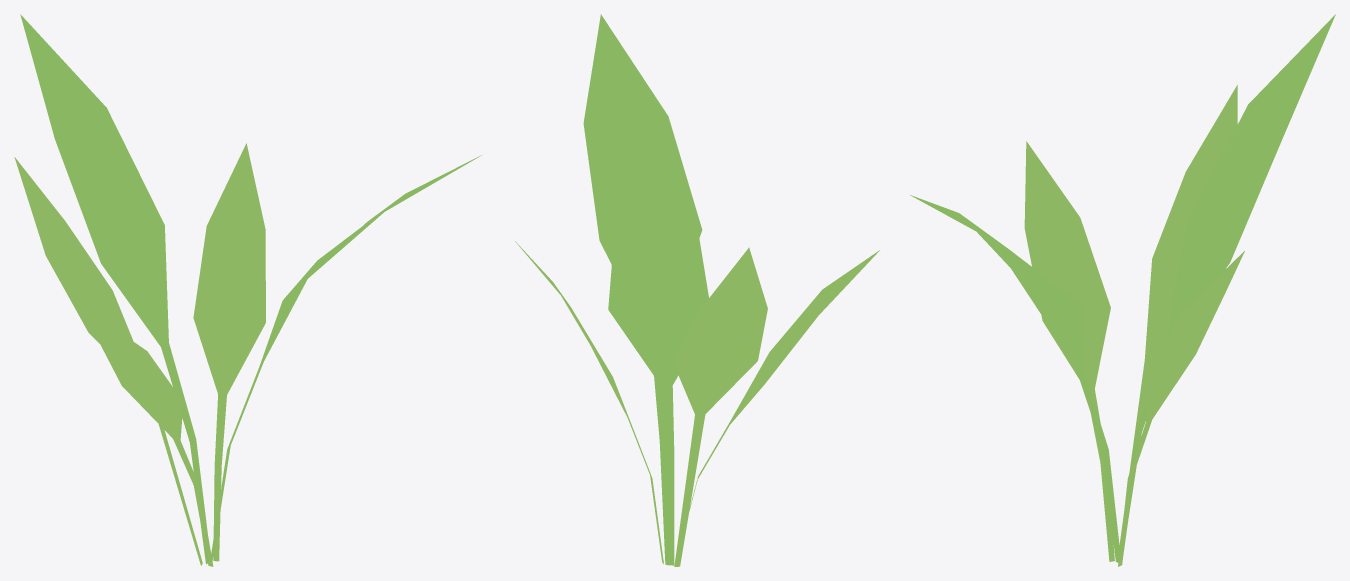
Rendered from Plant_g_TwoS_04.fbx.
3 views of the same model, side by side, from view 1: azimuth 30°, elevation 25°; view 2: azimuth 150°, elevation 25°; view 3: azimuth 270°, elevation 25° (orthographic). The views are drawn at different scales.
Parts seen in each view (by area): view 1: Plant_g_TwoS_04; view 2: Plant_g_TwoS_04; view 3: Plant_g_TwoS_04.
Part boxes in pixels (bbox=[...]): Plant_g_TwoS_04: bbox=[14, 14, 481, 566]; Plant_g_TwoS_04: bbox=[515, 14, 879, 566]; Plant_g_TwoS_04: bbox=[910, 14, 1335, 566].
Size of the model in its own units: 0.4143 by 0.5719 by 0.4367.
